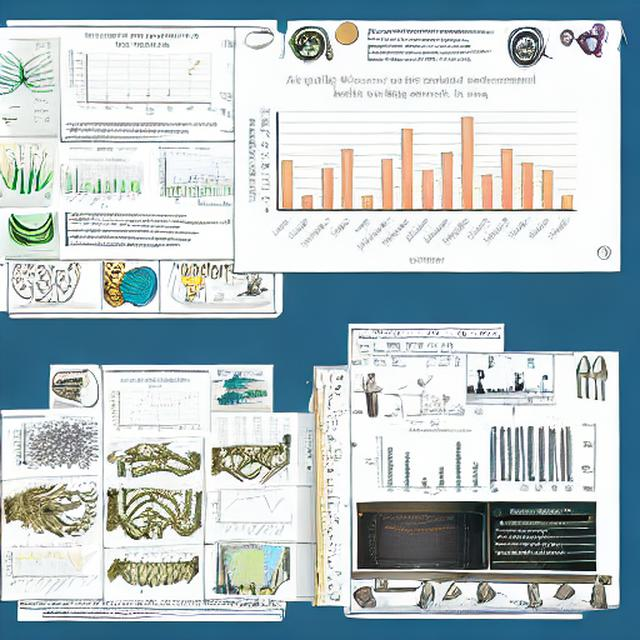Graph: (239, 70, 581, 270), (66, 29, 218, 119), (360, 426, 487, 500), (106, 378, 204, 435), (366, 512, 462, 569), (53, 155, 145, 210), (2, 544, 88, 596), (208, 488, 290, 537)
